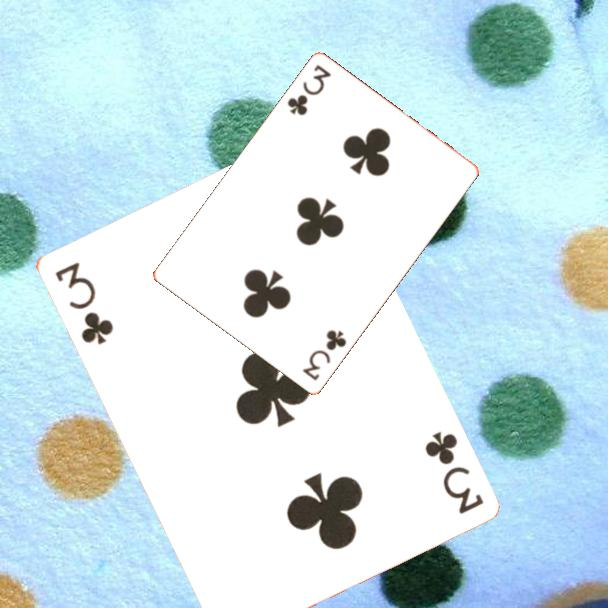c03: (50, 258, 116, 348), (420, 427, 486, 517), (299, 326, 350, 384), (284, 61, 334, 119)
